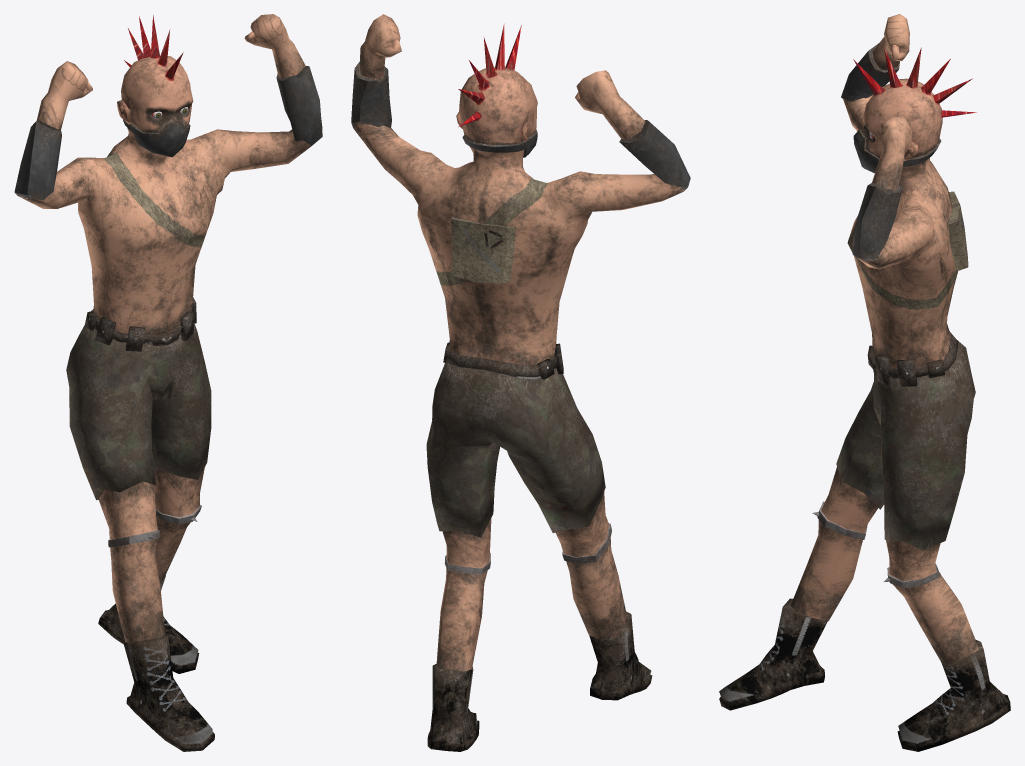
File: Anim_ganar_1_npc2.0019.obj
3 views of the same model, side by side, from view 1: azimuth 30°, elevation 25°; view 2: azimuth 150°, elevation 25°; view 3: azimuth 270°, elevation 25° (orthographic). The views are drawn at different scales.
Parts seen in each view (by area): view 1: polySurface1; view 2: polySurface1; view 3: polySurface1.
Boxes of the visible parts, x1,y1,x2,y2 form: polySurface1: (14, 14, 322, 751); polySurface1: (351, 14, 690, 751); polySurface1: (719, 14, 1010, 751).
Bounding box in the file's own units: 5.04 × 10.18 × 3.93.
